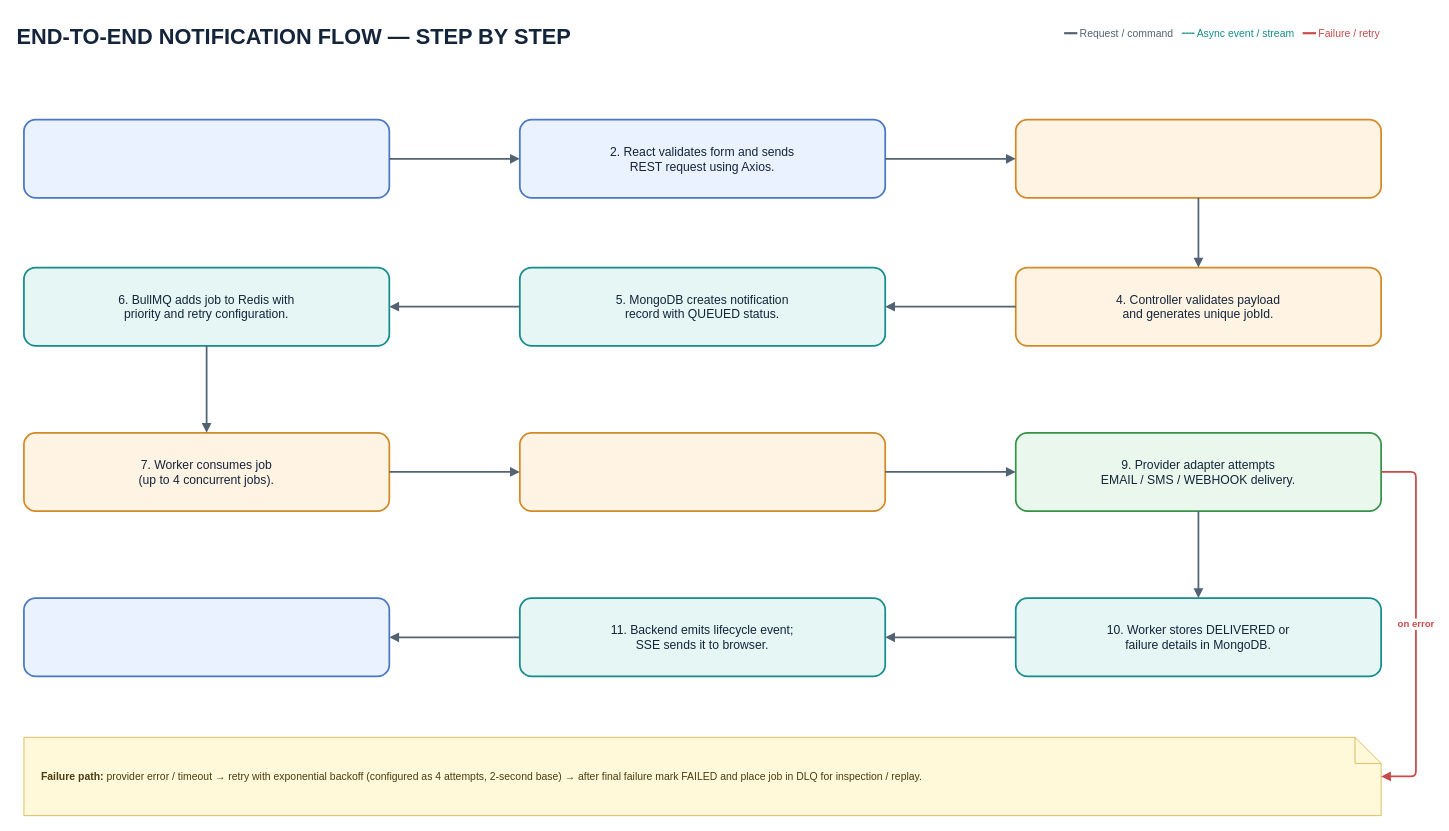
This 1449x831 diagram has some shape labels left out. Here are the shapes that lost their labels. From the top down, the centre of each, then its label:
point 206,158: 1. User selects recipient, channel, priority, template and data.
point 1198,158: 3. Express checks CORS, rate limit, idempotency and request body.
point 702,472: 8. Worker loads template, checks required variables and renders it.
point 206,637: 12. Dashboard updates status, event history and metrics.
